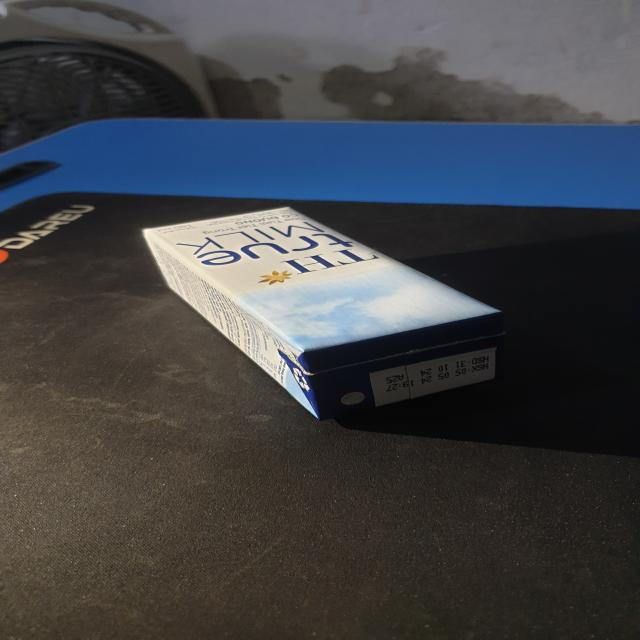TH: (139, 206, 517, 426)
